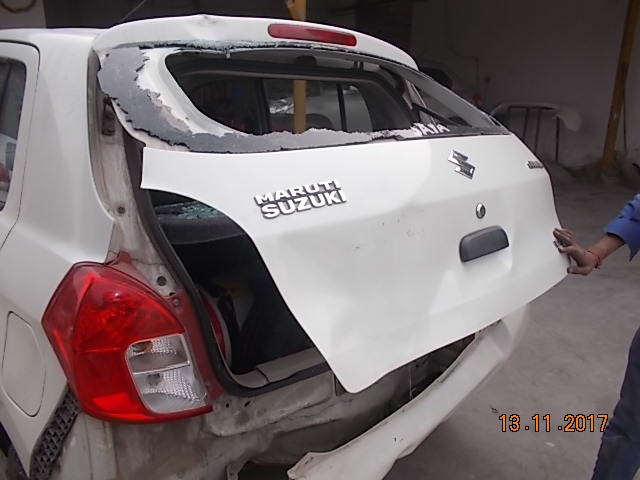Large_tear_or_damage: (49, 347, 304, 463)
